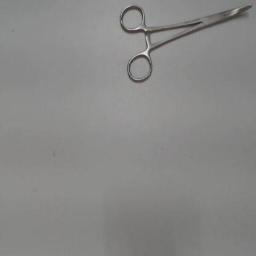Crile Artery Forceps: (118, 1, 254, 85)
